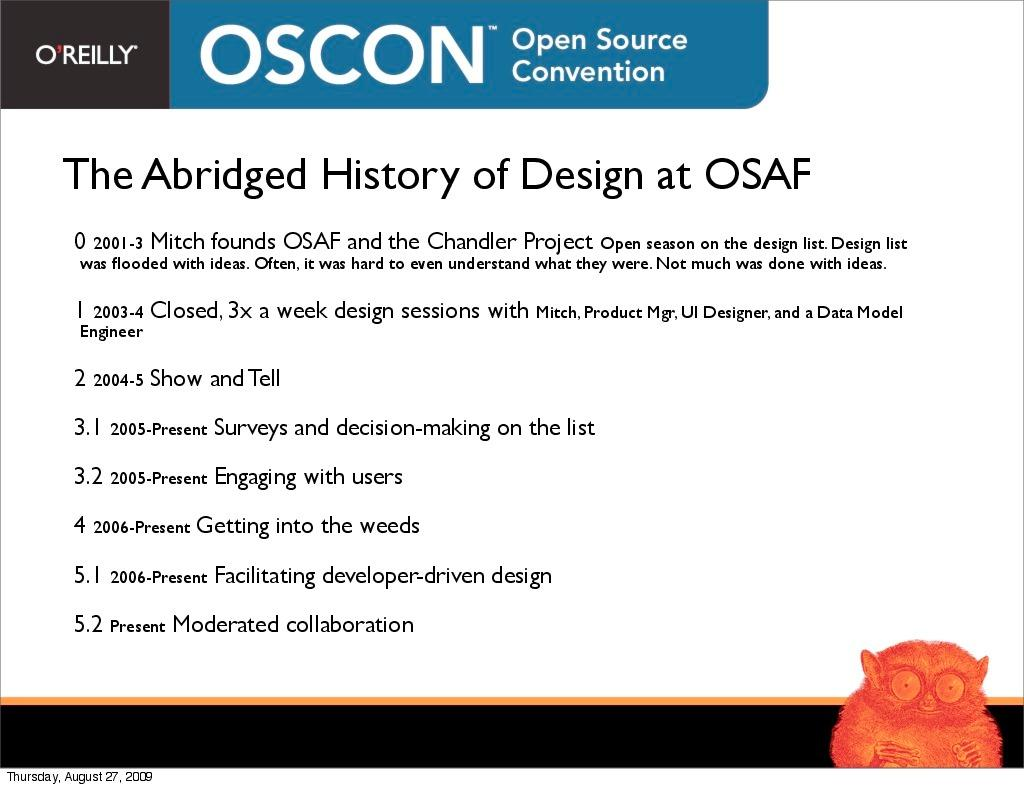paragraph: (68, 223, 936, 647)
subtitle: (58, 136, 835, 213)
title: (23, 7, 717, 98)
